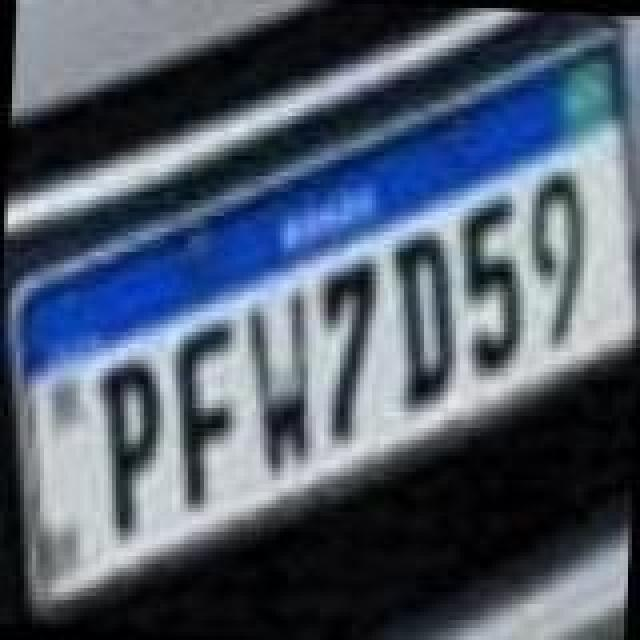5: (450, 196, 534, 380)
7: (308, 254, 380, 450)
9: (520, 166, 592, 346)
D: (382, 226, 466, 414)
F: (162, 318, 238, 514)
P: (90, 354, 166, 542)
W: (234, 278, 318, 482)
